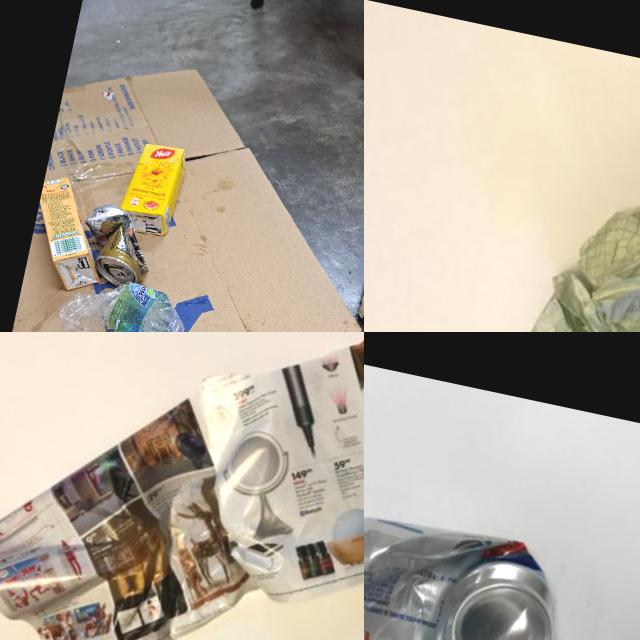aba de lata: (108, 267, 128, 279)
caixinha: (23, 174, 119, 298), (116, 139, 189, 238)
garrafa plástica: (52, 269, 194, 332)
lata: (364, 494, 571, 640), (74, 201, 160, 290)
papel: (0, 332, 364, 640), (506, 179, 640, 332)
papelão: (0, 44, 364, 332)
